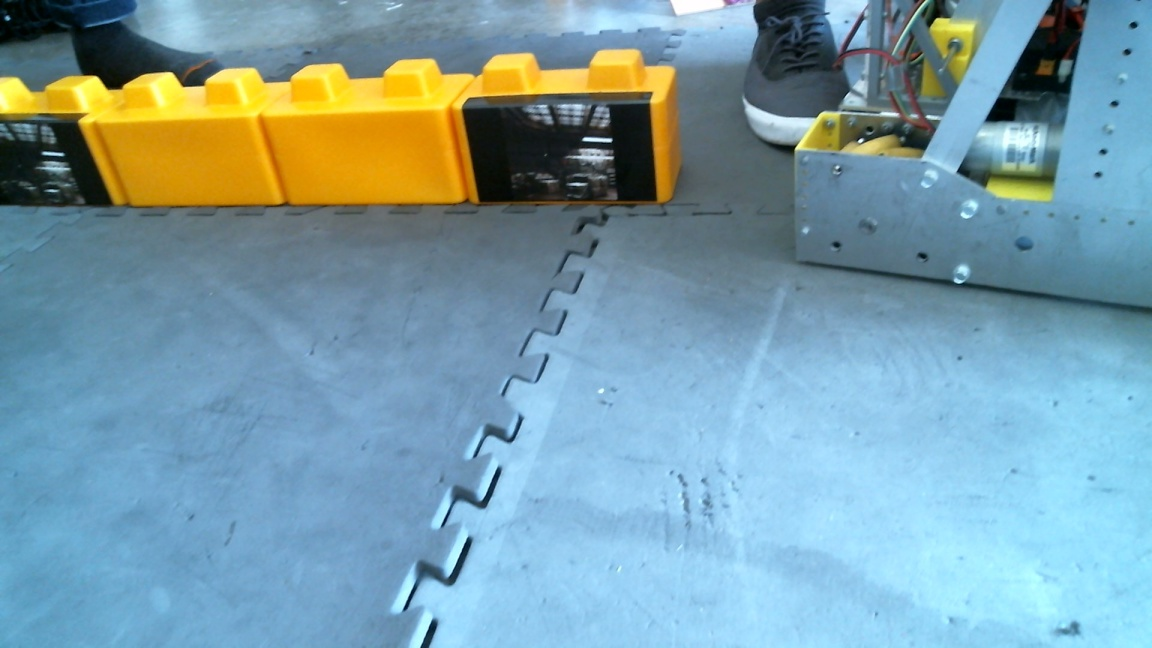left: (1, 57, 478, 210)
right: (106, 56, 685, 211)
